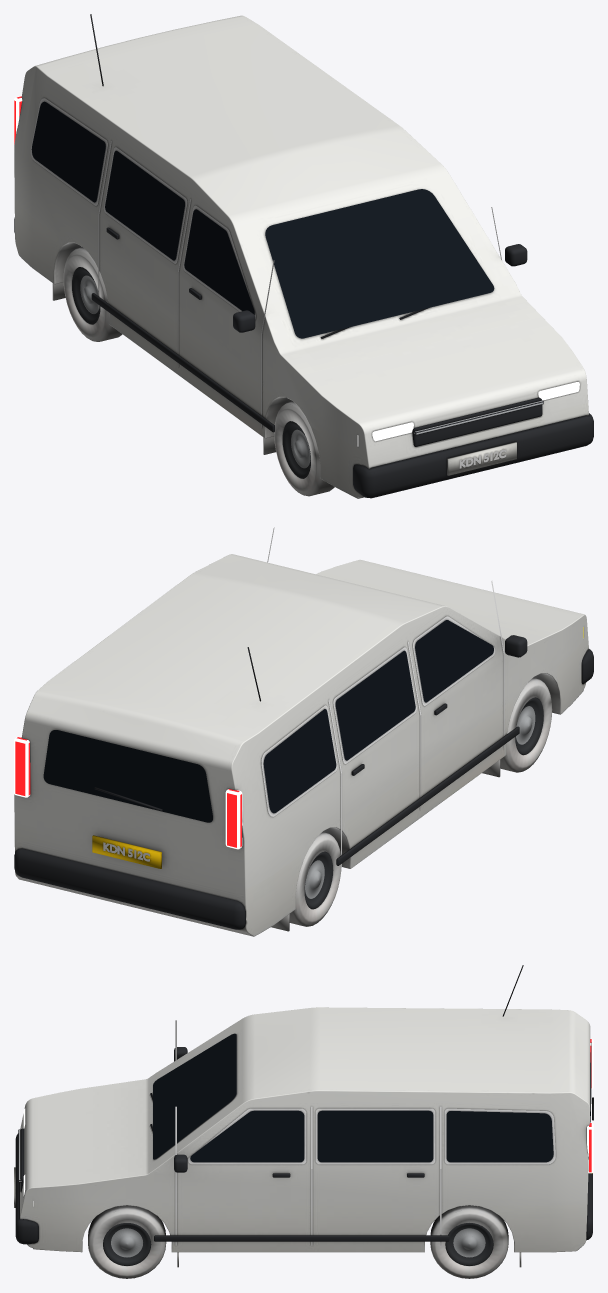
File: car.glb
3 renders of one model, top to bottom at view 1: azimuth 30°, elevation 25°; view 2: azimuth 150°, elevation 25°; view 3: azimuth 270°, elevation 25°, orthographic. The views are drawn at different scales.
Visible parts, largest first — view 1: body, glass, wheel_fr, wheel_rr, lights; view 2: body, glass, wheel_rr, wheel_fr, lights; view 3: body, glass, wheel_fl, wheel_rl, lights.
Part boxes in pixels (bbox=[...]): body: bbox=[14, 14, 593, 498]; glass: bbox=[31, 101, 494, 338]; wheel_fr: bbox=[274, 401, 334, 496]; wheel_rr: bbox=[63, 247, 122, 341]; lights: bbox=[14, 96, 579, 446]; body: bbox=[14, 527, 593, 936]; glass: bbox=[43, 620, 493, 822]; wheel_rr: bbox=[289, 832, 341, 926]; wheel_fr: bbox=[500, 678, 552, 772]; lights: bbox=[14, 627, 583, 849]; body: bbox=[14, 965, 593, 1267]; glass: bbox=[153, 1033, 591, 1162]; wheel_fl: bbox=[88, 1205, 166, 1278]; wheel_rl: bbox=[430, 1205, 508, 1278]; lights: bbox=[23, 1038, 593, 1206].
Size of the model in its own units: 2.02 by 1.95 by 4.32.
16 materials, 11 textured.
